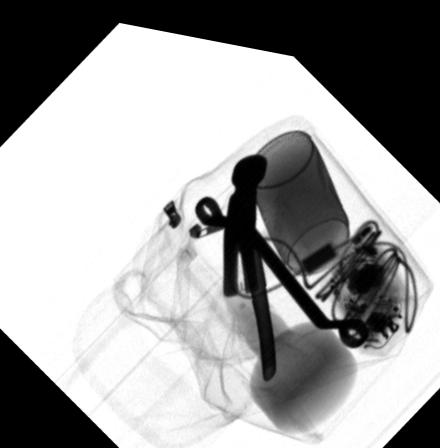Hammer: (221, 143, 276, 370)
Wrench: (194, 186, 369, 333)
